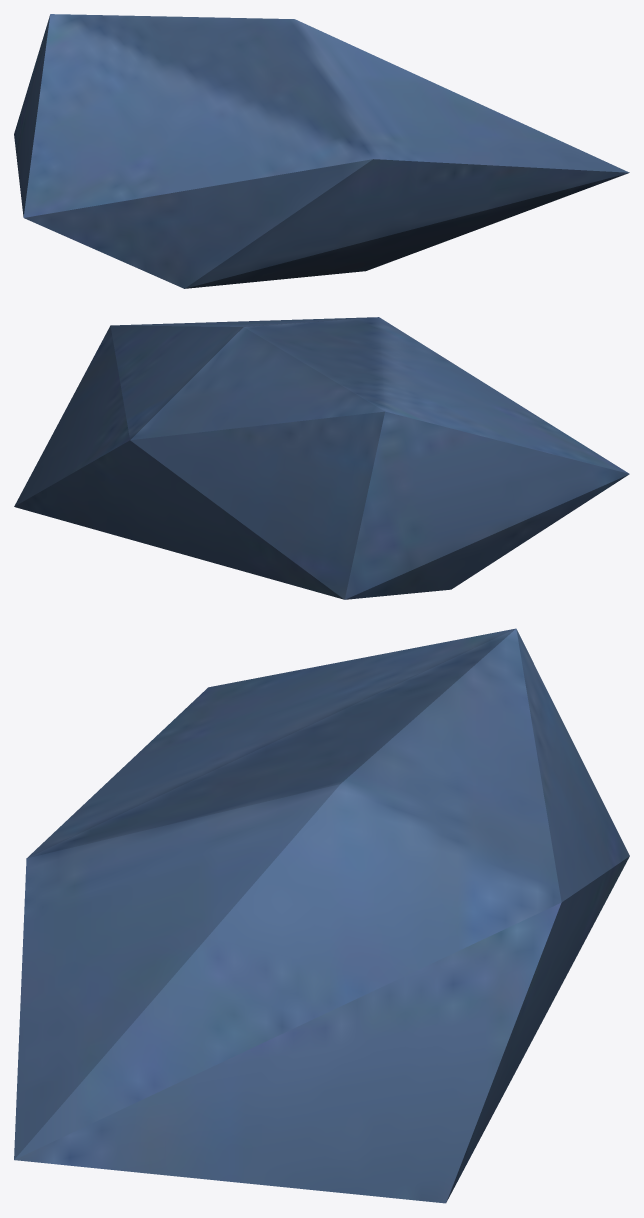
Rendered from iron-bacteria.glb.
The picture shows the model from 3 angles, top to bottom: view 1: azimuth 30°, elevation 25°; view 2: azimuth 150°, elevation 25°; view 3: azimuth 270°, elevation 25°; orthographic projection. The views are drawn at different scales.
Parts seen in each view (by area): view 1: iron-bacteria; view 2: iron-bacteria; view 3: iron-bacteria.
Part boxes in pixels (x1,y1,x2,y2): iron-bacteria: [14, 14, 629, 288]; iron-bacteria: [14, 317, 629, 599]; iron-bacteria: [14, 628, 629, 1203].
Bounding box in the file's own units: 0.22 × 0.08 × 0.14.
1 material, 1 textured.
